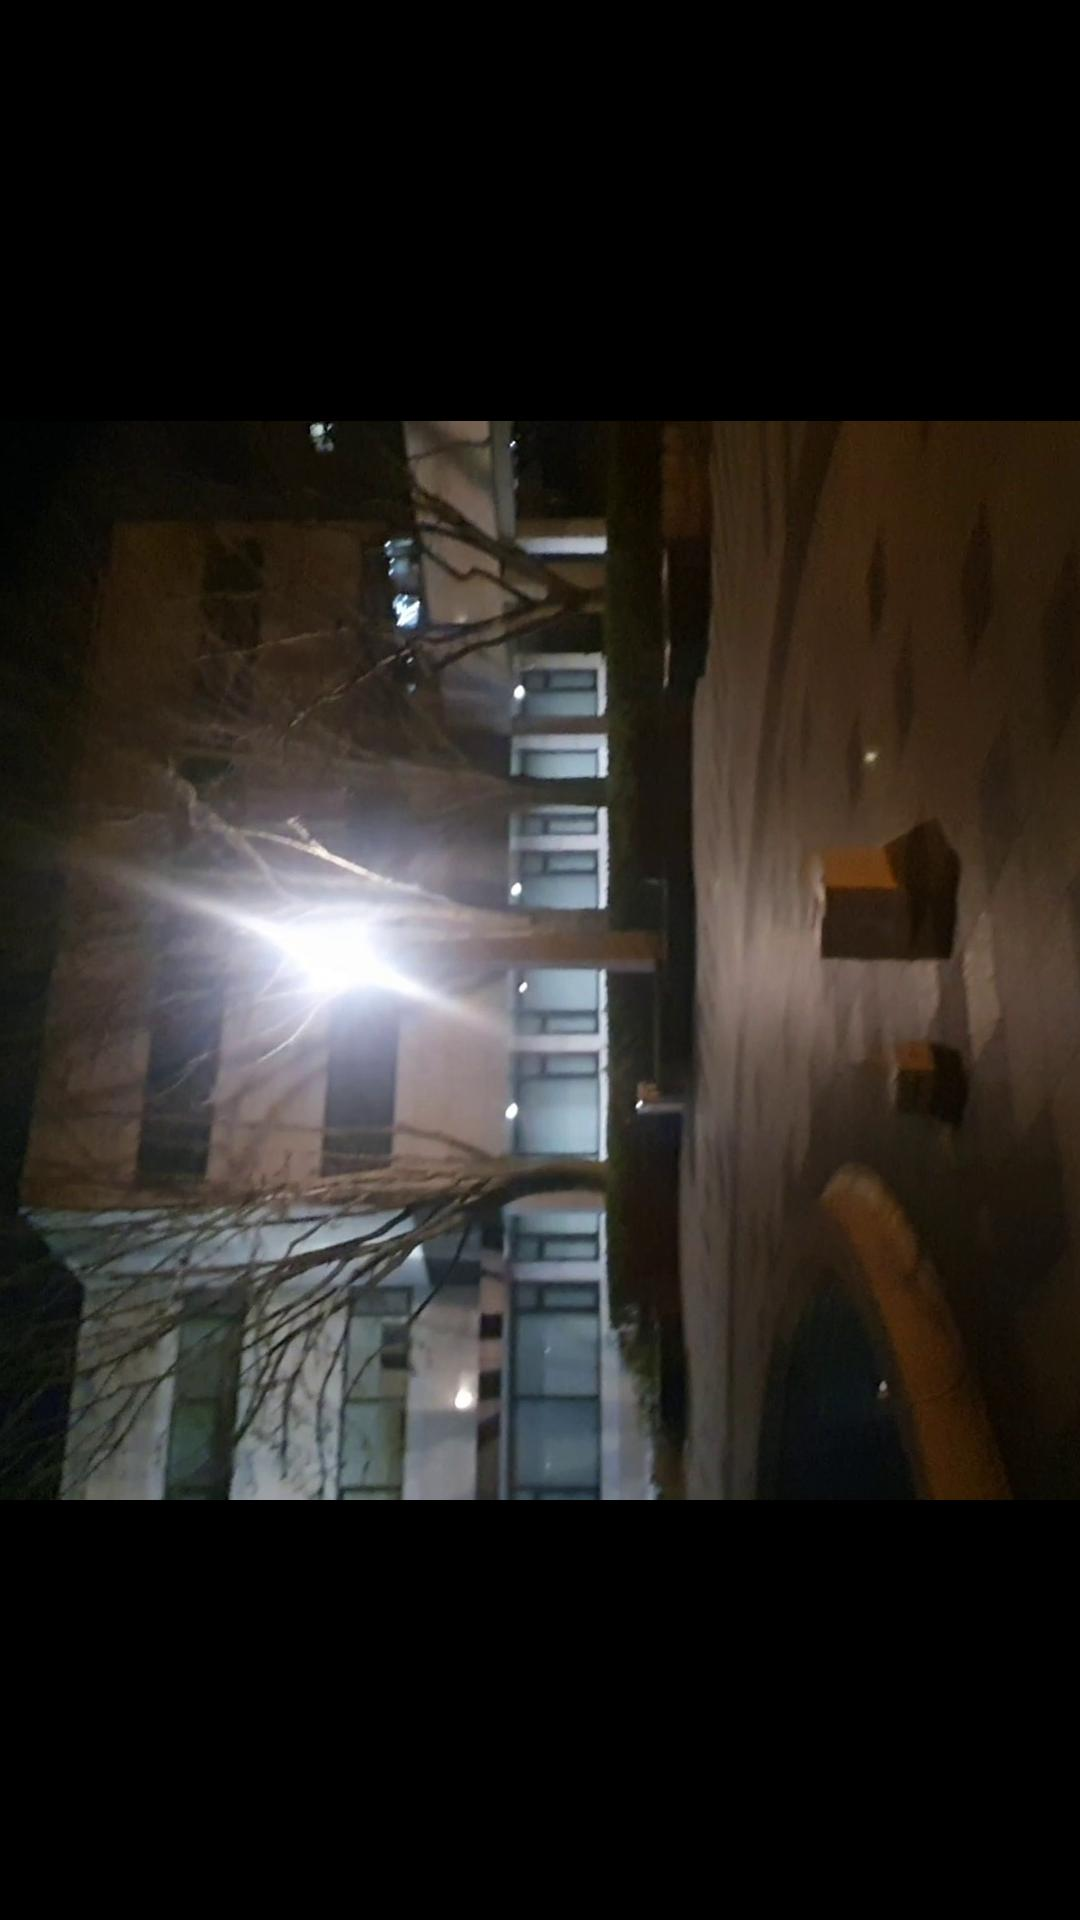Box: (798, 841, 918, 972), (880, 1033, 947, 1131)
